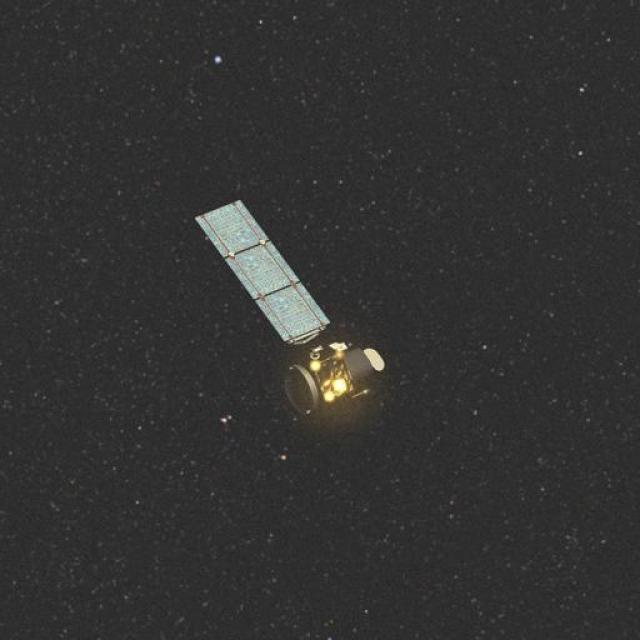earth_observation_sat_1: (191, 193, 401, 438)
